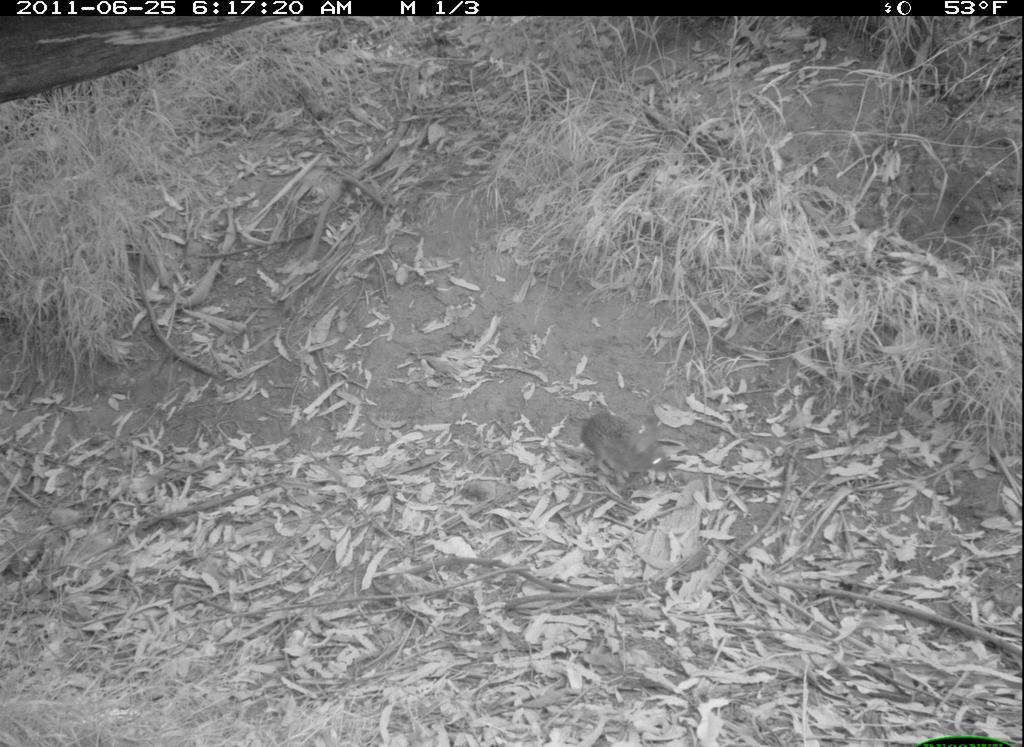rabbit: (580, 395, 684, 502)
